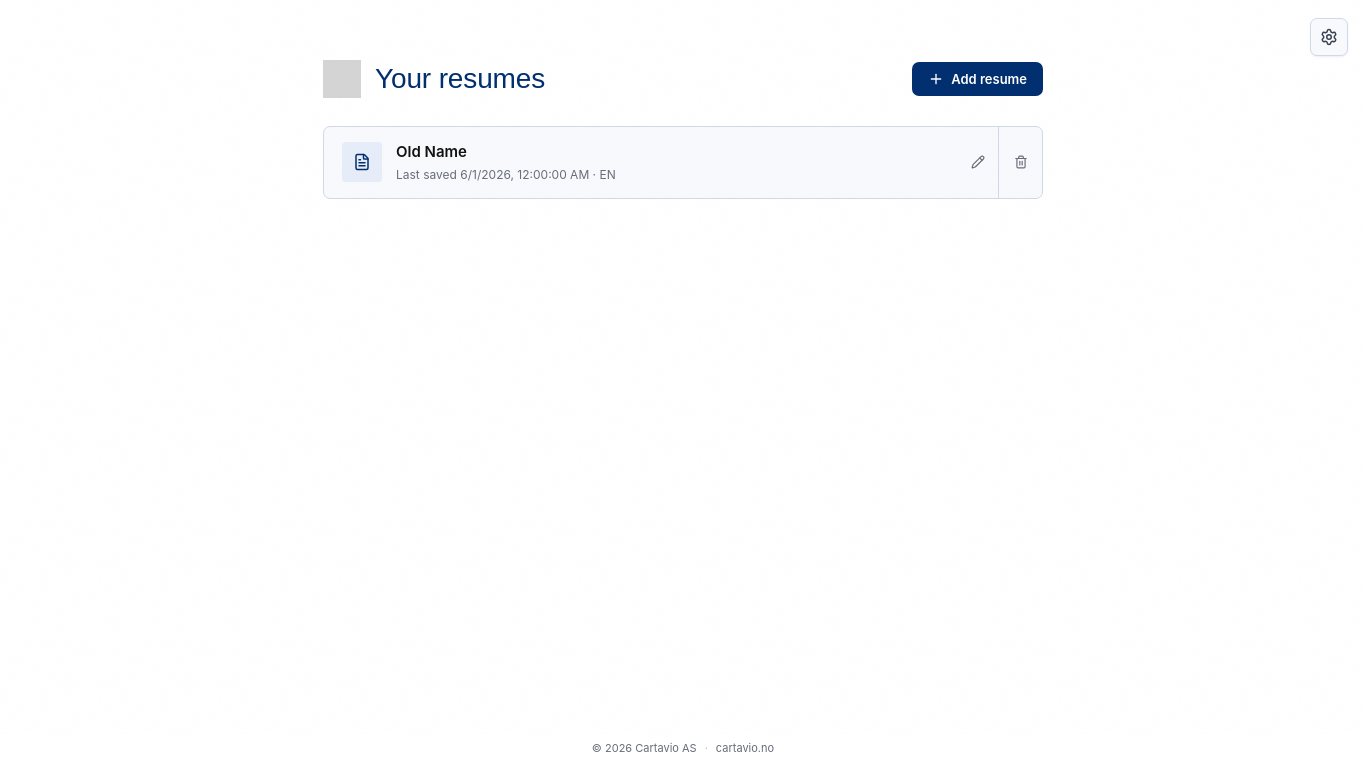
Test: <ResumeList> › renames a resume inline via PATCH and shows the new name
Expected: the text "Old Name" is shown, 396,142 -> 467,161
Click the button named "rename old name" at {"x": 978, "y": 162}, box 958,127 -> 998,198
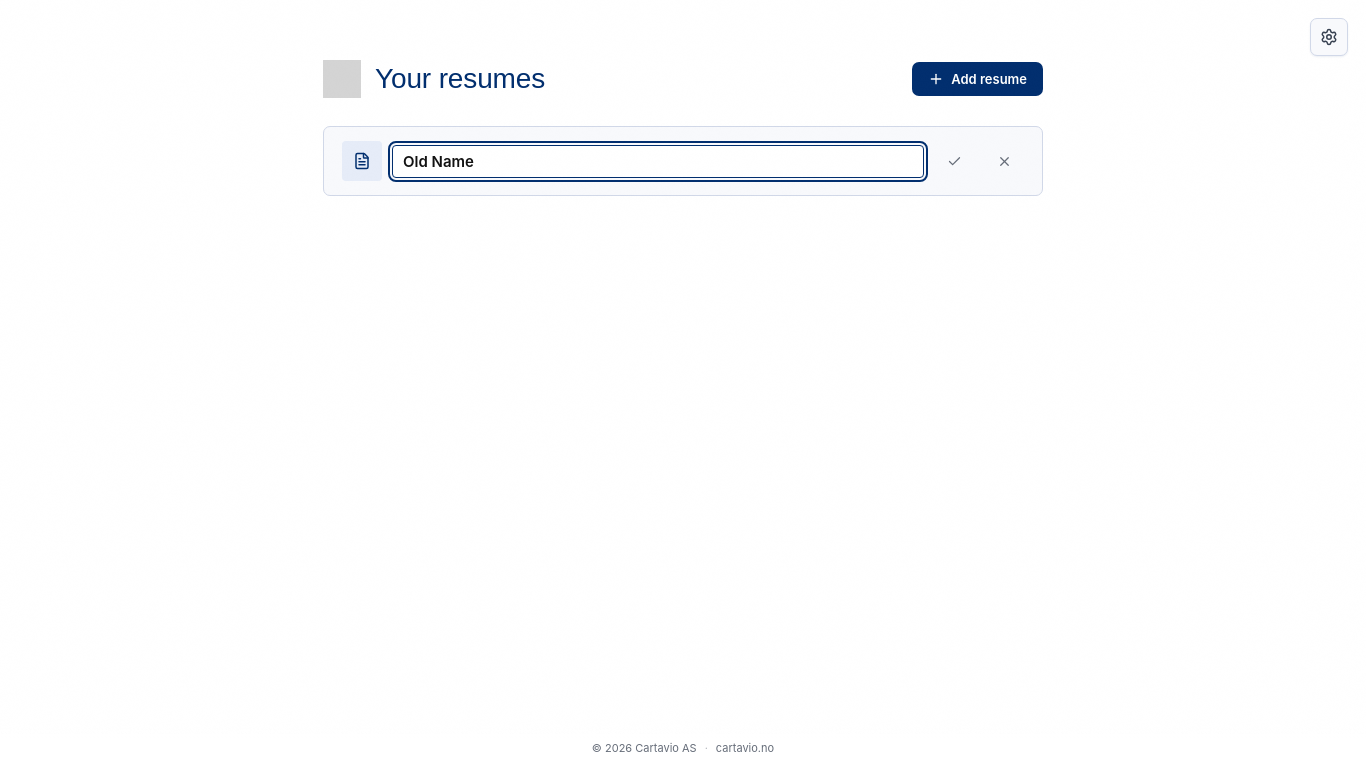
Replace the text in the field named "resume name" with "New Name" at {"x": 658, "y": 161}, box 392,144 -> 924,178
Then press Enter
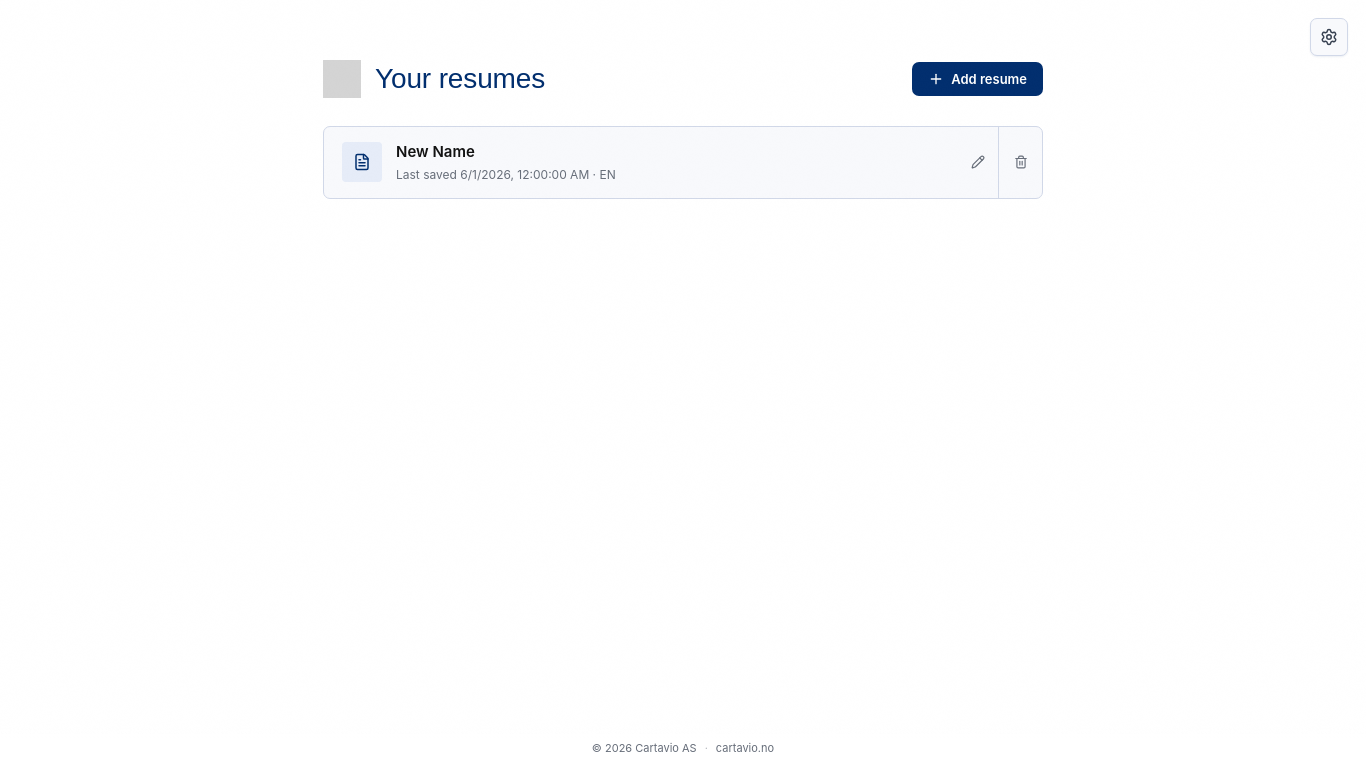
Now the text "New Name" is shown, box 396,142 -> 475,161
